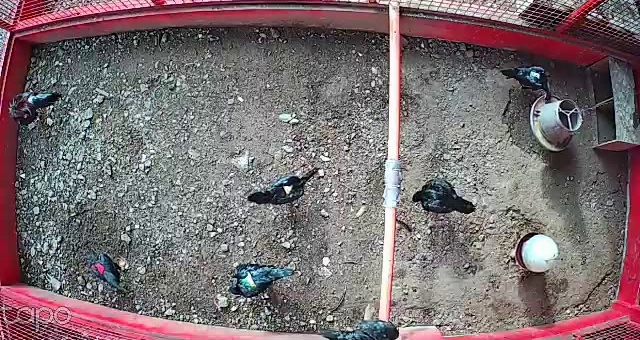Chicken: (246, 164, 317, 207), (499, 60, 554, 109), (228, 264, 293, 300), (88, 251, 129, 296)
Rooster: (8, 82, 61, 130)
Saddle_Color_Red: (94, 262, 105, 273)
Saddle_Color_Yellow: (282, 181, 294, 195)
Saddle_Color_YellowGreen: (242, 272, 256, 290)
